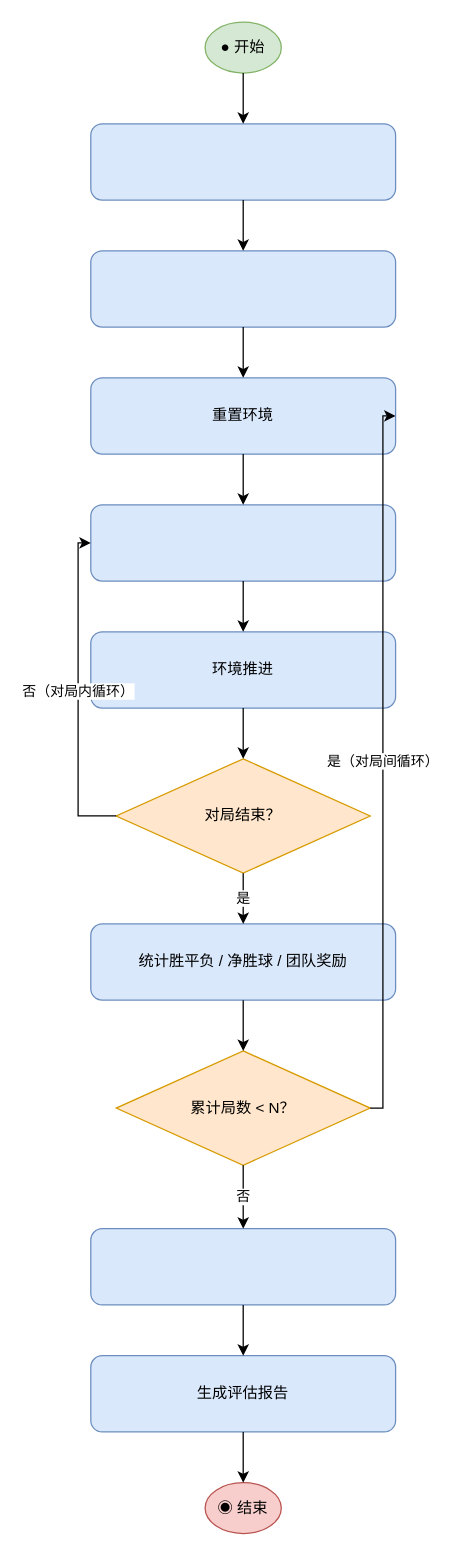
Image size: 460x1556. Some labels were removed from this diagram. Each missing label, with the centre of its shape:
"初始化对局计数与指标累加器" goes at (243,288).
"加载配置与策略 checkpoint" goes at (243,161).
"整队推理决策" goes at (243,542).
"计算指标与推理耗时" goes at (243,1266).
